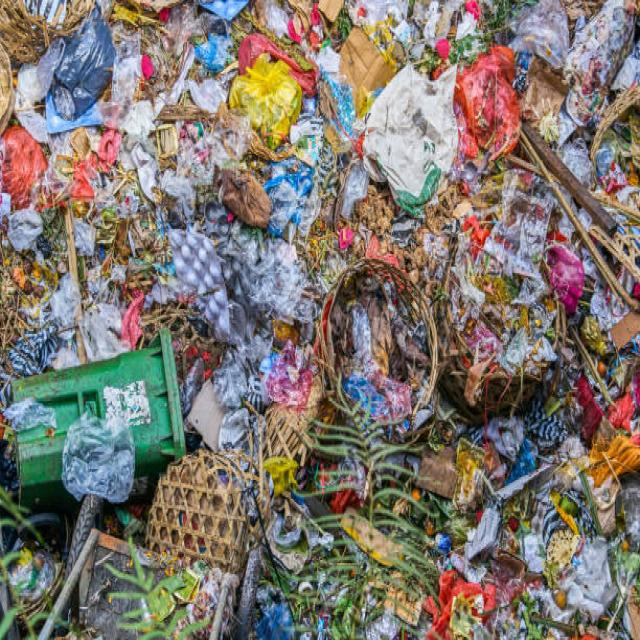trash: (185, 67, 628, 604)
